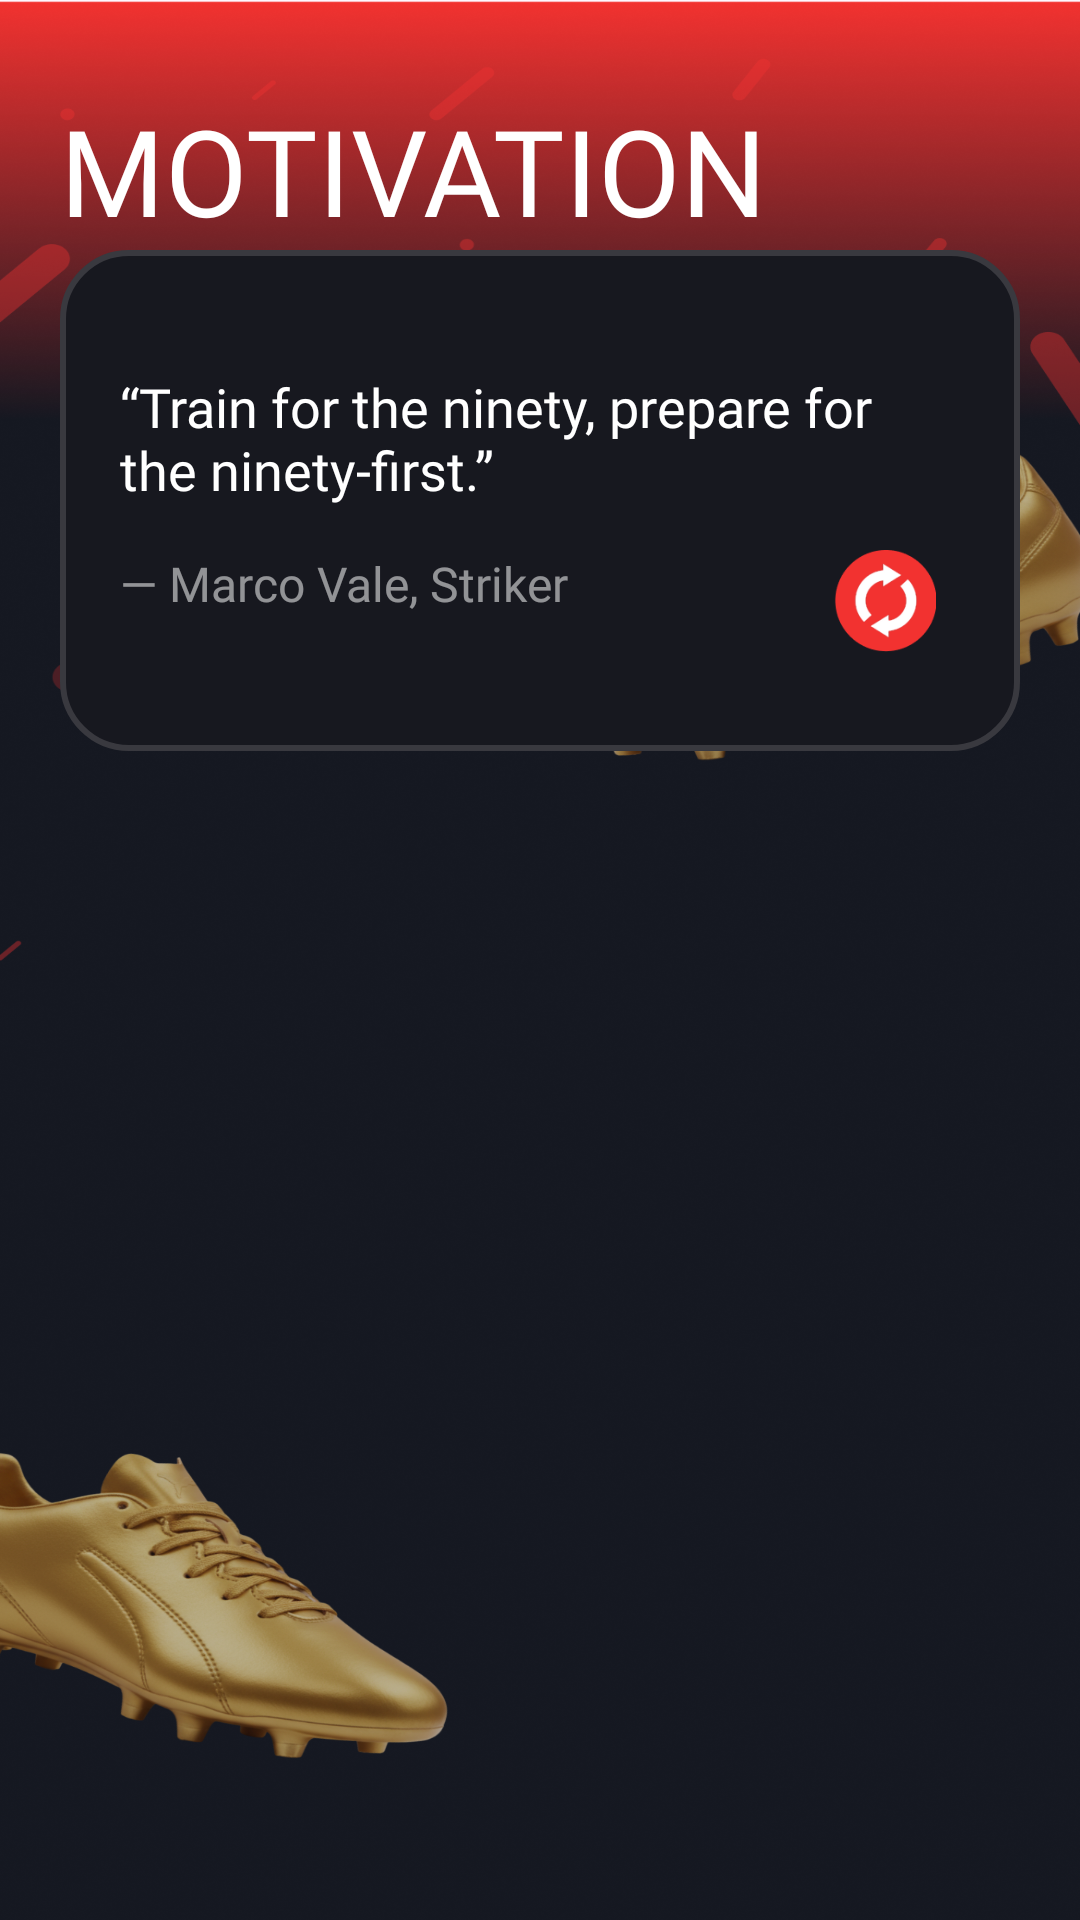

Icons on this 1080 × 1920 Android screen, each with its box as (x1, y1, x2, y2):
Refresh motivation quote: (835, 550, 936, 652)
